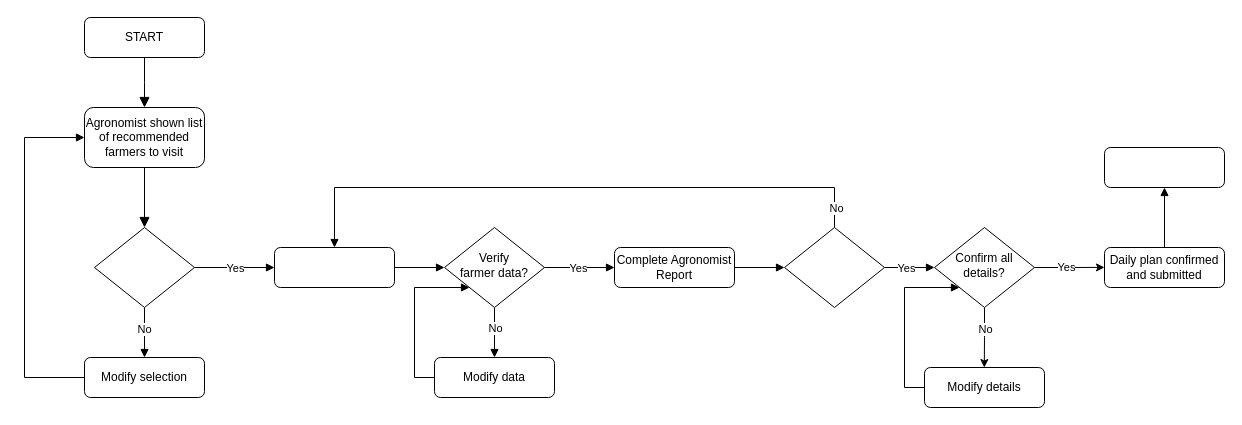
Image size: 1242x425. Some labels were removed from this diagram. The box of each missing label's shape, as (x1, y1, x2, y2) in pixels:
All farmers visited?: (784, 226, 884, 308)
Confirm selection of farmers?: (94, 226, 194, 308)
END: (1104, 146, 1224, 188)
Visit Farmer: (274, 246, 394, 288)
